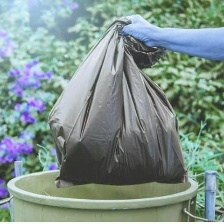plastic_bag: (44, 12, 197, 190)
